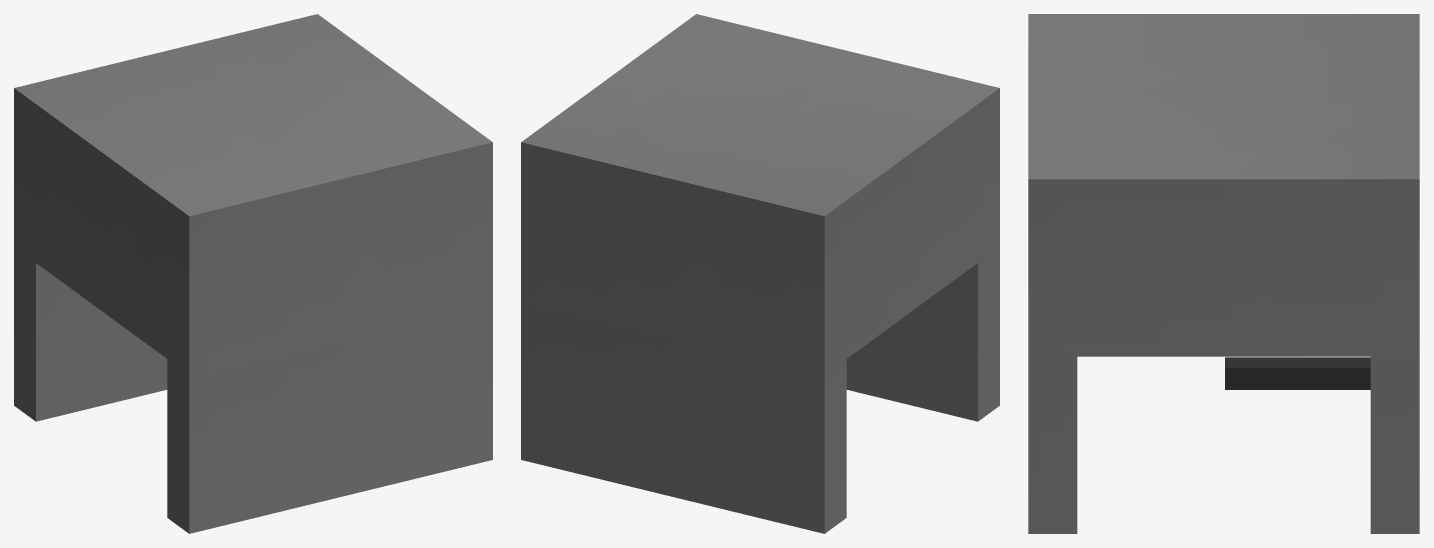
File: dc_metro_roof_k1l.obj
3 renders of one model, left to right at view 1: azimuth 30°, elevation 25°; view 2: azimuth 150°, elevation 25°; view 3: azimuth 270°, elevation 25°, orthographic. The views are drawn at different scales.
Parts seen in each view (by area): view 1: cube; view 2: cube; view 3: cube, part3l.
Part boxes in pixels (x1=…): cube: x1=14, y1=14, x2=492, y2=533; cube: x1=521, y1=14, x2=999, y2=533; cube: x1=1028, y1=14, x2=1419, y2=533; part3l: x1=1225, y1=357, x2=1370, y2=389.
Size of the model in its own units: 1 by 1 by 1.
Materials: 2 (2 with a texture image).
